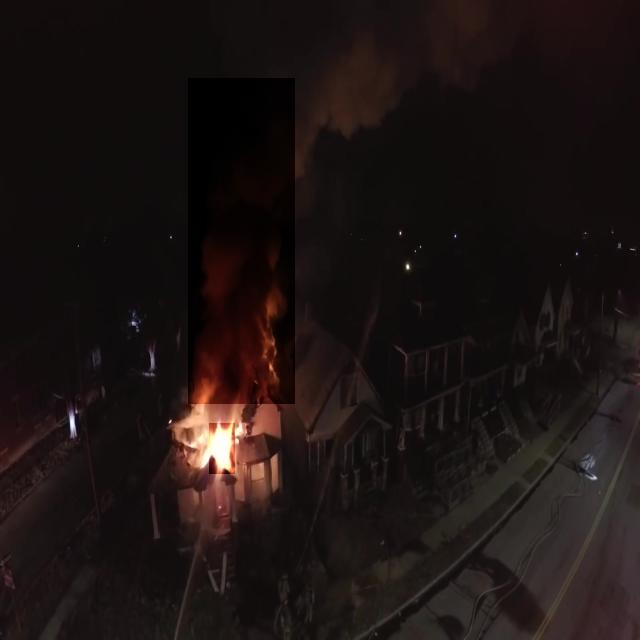Fire: (209, 423, 235, 474)
Smoke: (188, 78, 295, 404)
